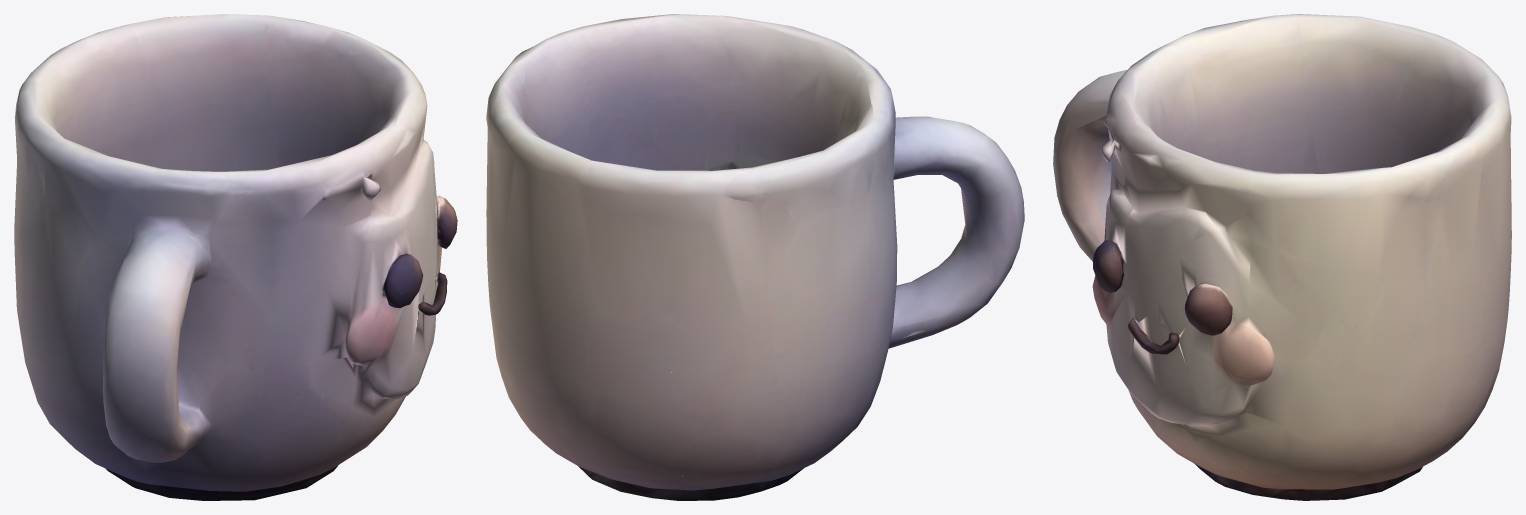
File: coffee_cup.glb
3 views of the same model, side by side, from view 1: azimuth 30°, elevation 25°; view 2: azimuth 150°, elevation 25°; view 3: azimuth 270°, elevation 25° (orthographic).
Parts seen in each view (by area): view 1: tripo_node_554bd670-6f06-47fc-96ab-ccd83c21f826; view 2: tripo_node_554bd670-6f06-47fc-96ab-ccd83c21f826; view 3: tripo_node_554bd670-6f06-47fc-96ab-ccd83c21f826.
Boxes of the visible parts, <box> form: tripo_node_554bd670-6f06-47fc-96ab-ccd83c21f826: <box>14,14,457,500</box>; tripo_node_554bd670-6f06-47fc-96ab-ccd83c21f826: <box>486,14,1024,500</box>; tripo_node_554bd670-6f06-47fc-96ab-ccd83c21f826: <box>1053,14,1511,500</box>.
Size of the model in its own units: 0.9786 by 0.8153 by 0.9509.
Materials: 1 (1 with a texture image).
